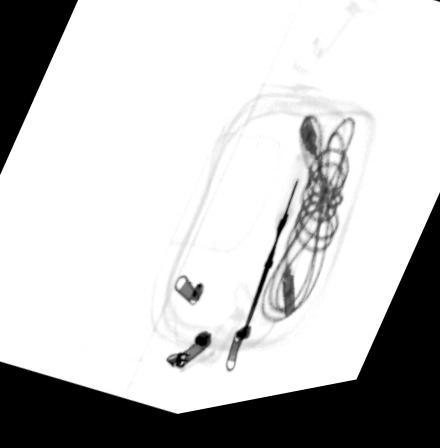Scissors: (238, 166, 312, 346)
